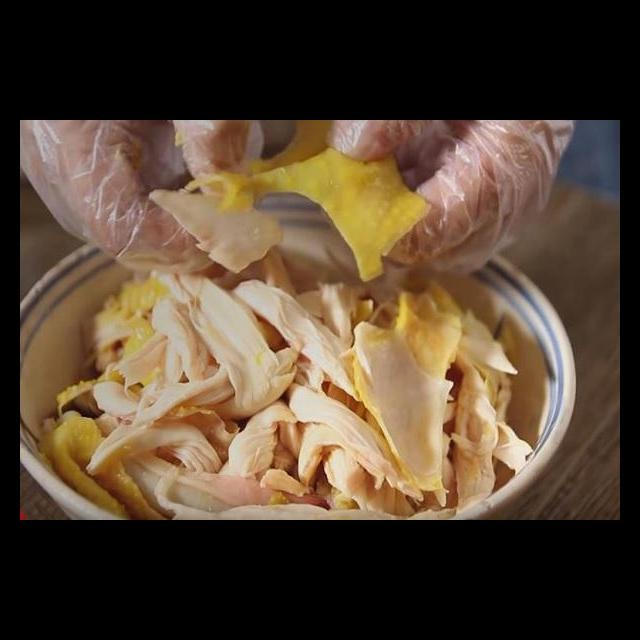thit ga: (37, 262, 535, 520), (137, 145, 436, 287)
